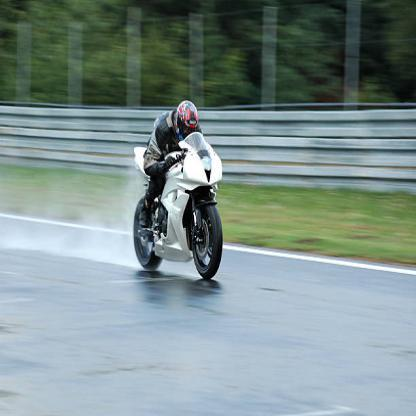Motorcycle: (130, 126, 225, 284)
